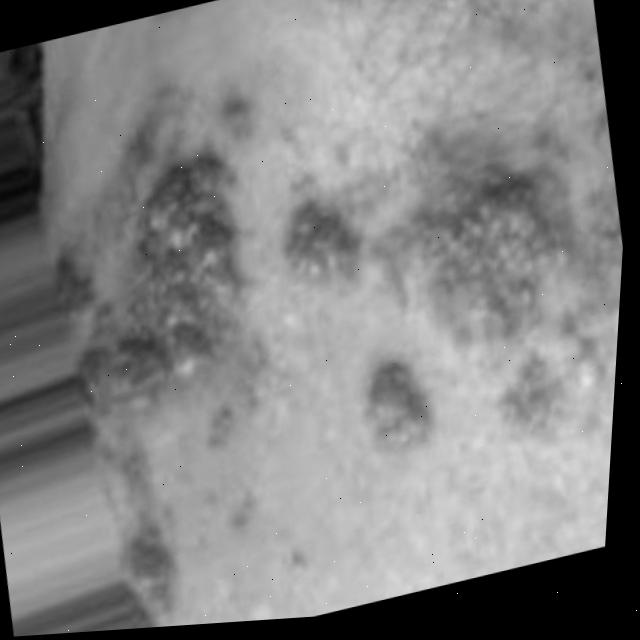Shingles: (45, 138, 309, 615), (270, 133, 630, 476)
